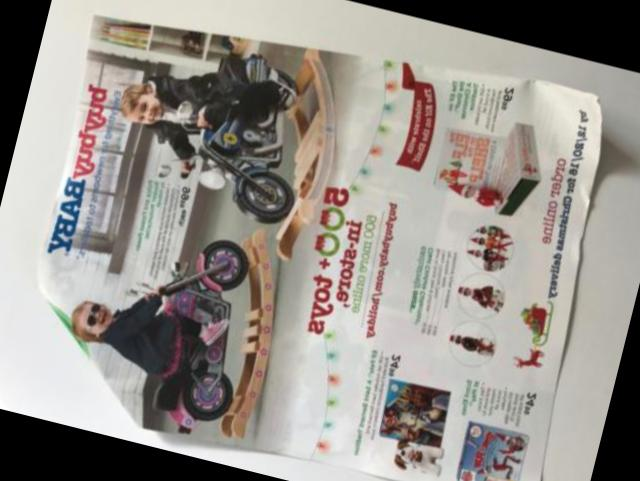cardboard paper: (36, 17, 598, 481)
